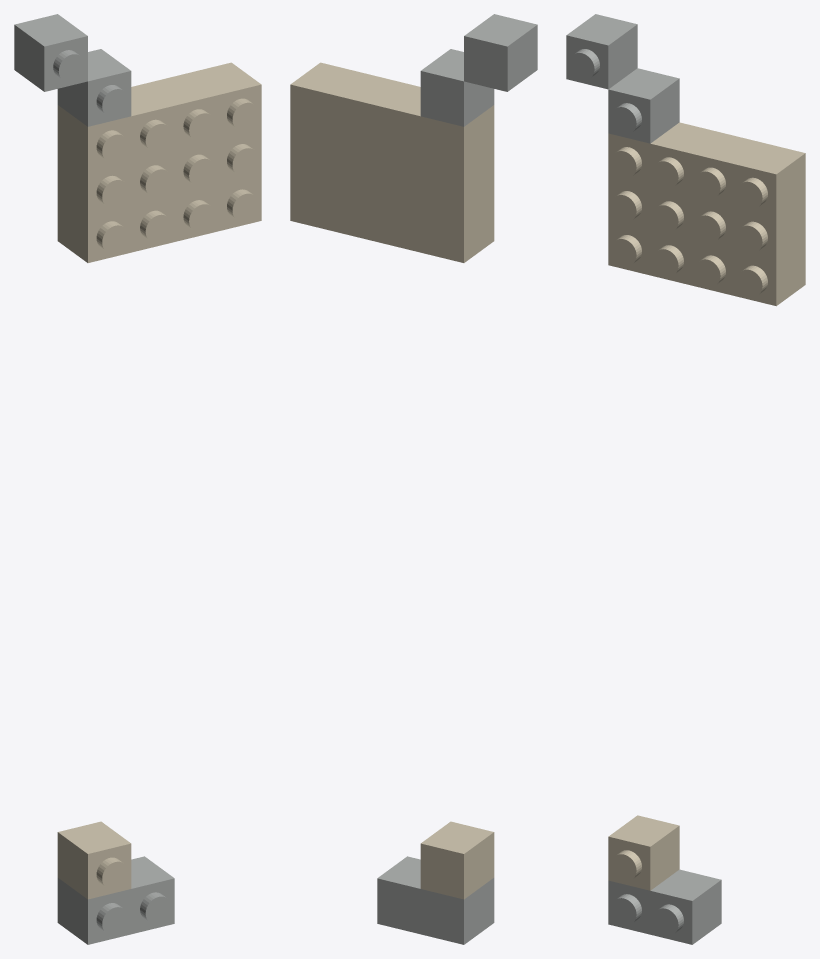
The model's file is current.glb.
3 views of the same model, side by side, from view 1: azimuth 30°, elevation 25°; view 2: azimuth 150°, elevation 25°; view 3: azimuth 330°, elevation 25° (orthographic). The views are drawn at different scales.
Parts seen in each view (by area): view 1: world; view 2: world; view 3: world.
Boxes of the visible parts, bbox=[...] form: world: bbox=[14, 14, 261, 944]; world: bbox=[290, 14, 537, 944]; world: bbox=[566, 14, 805, 944].
Bounding box in the file's own units: 40 × 160 × 11.4.
